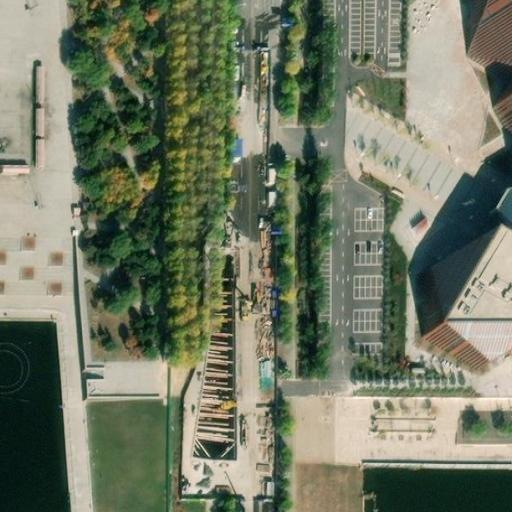building: (410, 231, 512, 380), (468, 0, 512, 74), (30, 61, 45, 103)
